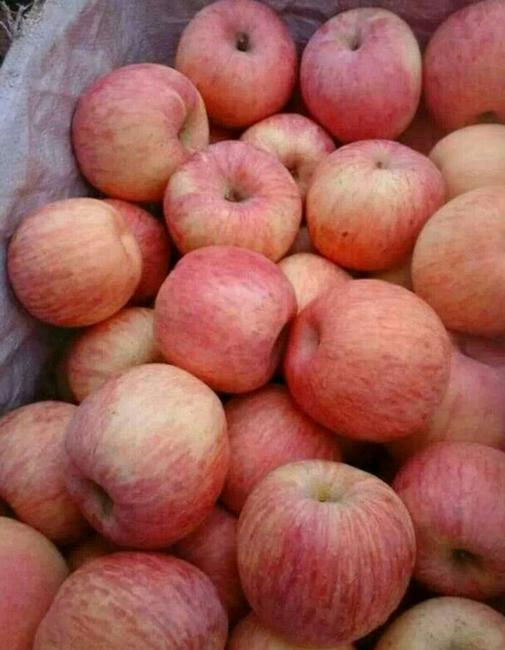apple: (237, 458, 414, 643), (59, 364, 228, 546), (283, 279, 450, 442), (153, 244, 294, 397), (2, 200, 160, 331), (70, 63, 209, 208), (388, 438, 505, 604), (27, 555, 229, 650), (309, 144, 448, 269), (160, 144, 303, 264), (301, 9, 424, 140), (172, 2, 296, 123), (412, 183, 502, 335), (1, 401, 91, 536), (425, 2, 502, 125), (1, 514, 67, 650), (59, 310, 158, 400)
